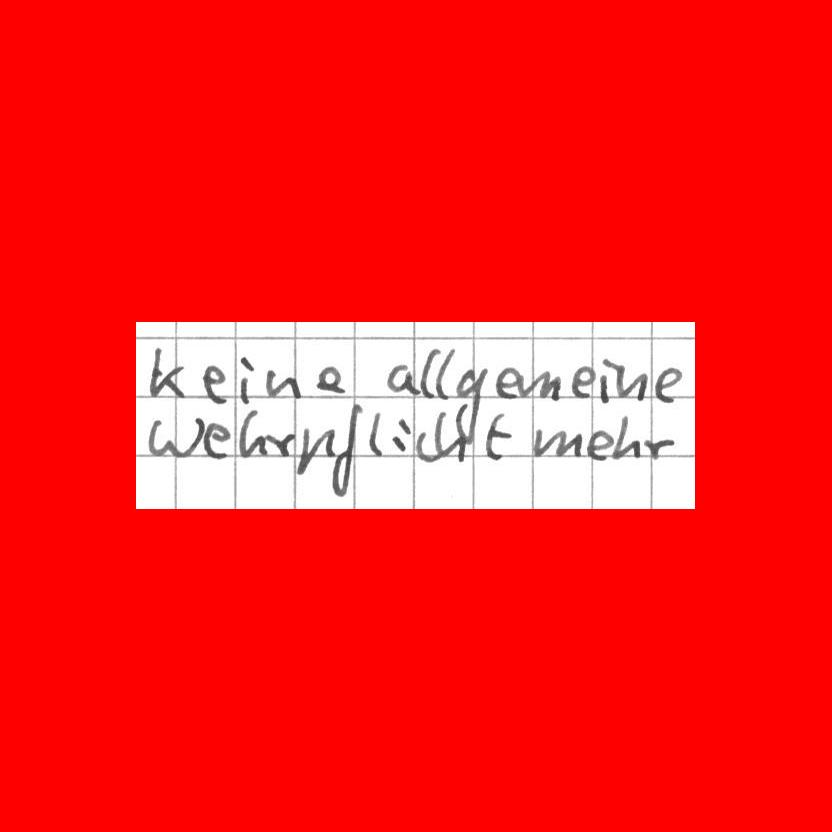Char: (141, 411, 205, 462), (330, 399, 363, 497), (453, 364, 488, 440), (146, 343, 188, 402), (295, 423, 337, 478), (433, 409, 469, 462), (530, 424, 584, 459), (235, 405, 266, 459), (517, 366, 564, 401), (610, 411, 643, 460), (614, 360, 651, 402), (652, 361, 685, 407), (262, 366, 304, 400), (201, 416, 232, 462), (484, 412, 511, 462), (568, 359, 599, 402), (382, 359, 417, 397), (201, 361, 228, 406), (236, 352, 258, 406), (435, 344, 456, 399), (314, 363, 347, 396), (585, 425, 614, 462), (420, 344, 439, 400), (596, 354, 616, 404), (640, 435, 676, 462), (496, 362, 519, 404), (264, 428, 296, 458), (367, 410, 385, 458), (390, 415, 411, 455), (415, 426, 435, 464)
